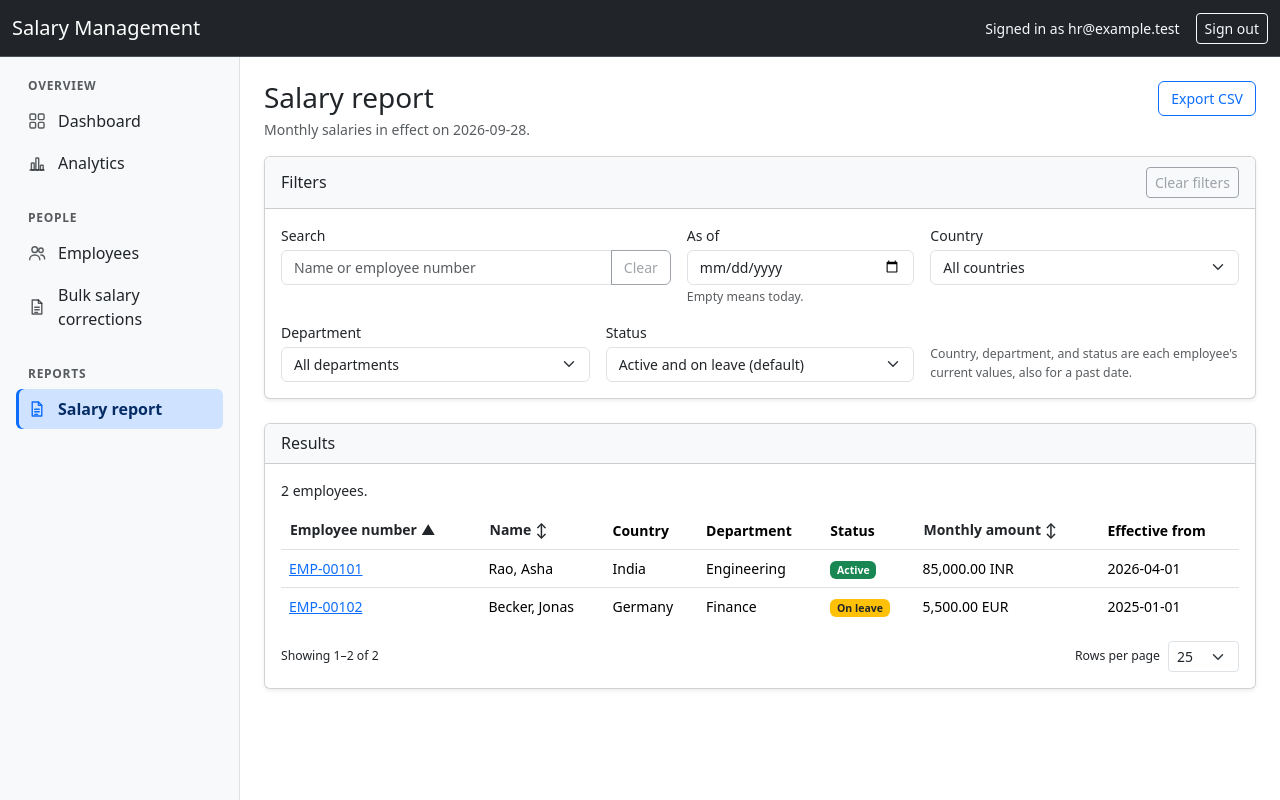
Test: SalaryReportPage › sorts by amount on the server and says amounts are ordered within each currency
Expected: the heading "Salary report" is shown, 264,78 -> 434,116
Expected: the table named "Salary report" is shown, 281,509 -> 1239,625
Click the button "Monthly amount↕" at (990, 529), box 922,518 -> 1058,541
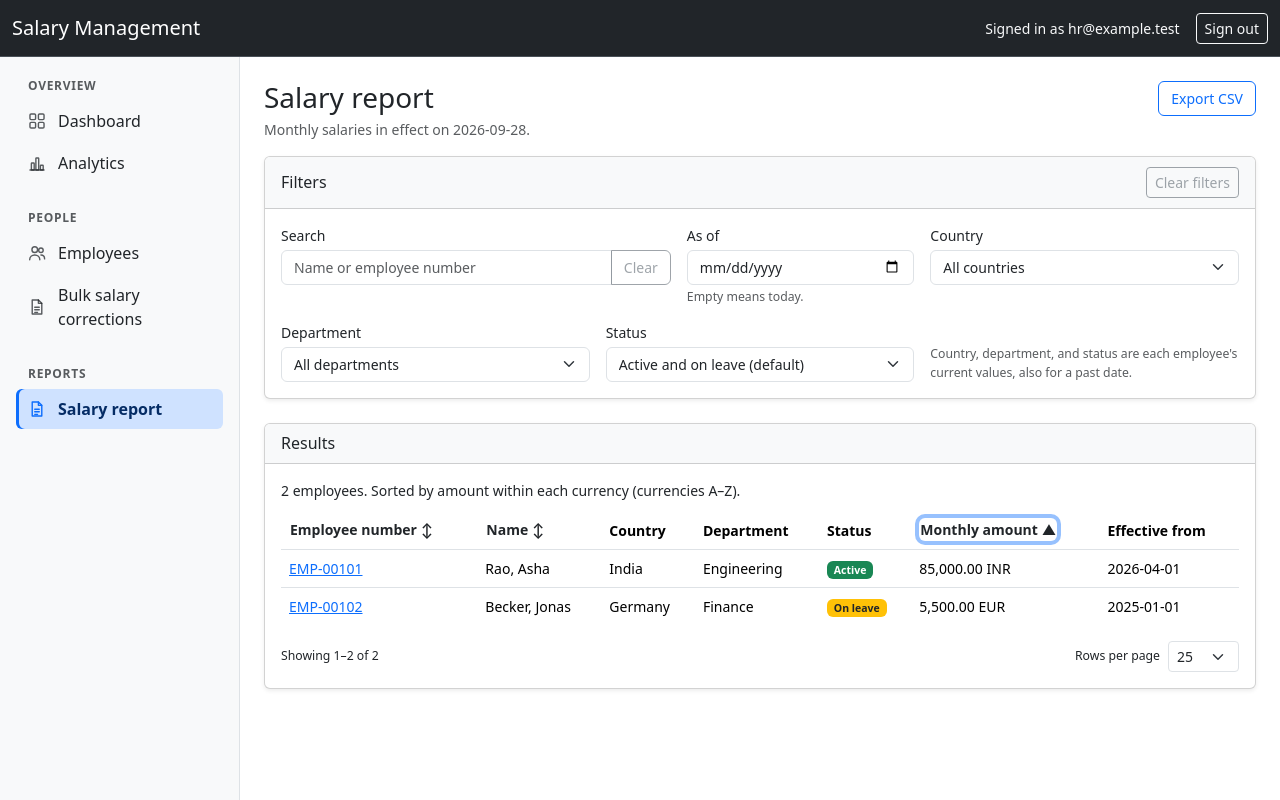
Result: the text "2 employees. Sorted by amount within each currency (currencies A–Z)." is shown at 281,481 -> 740,500
